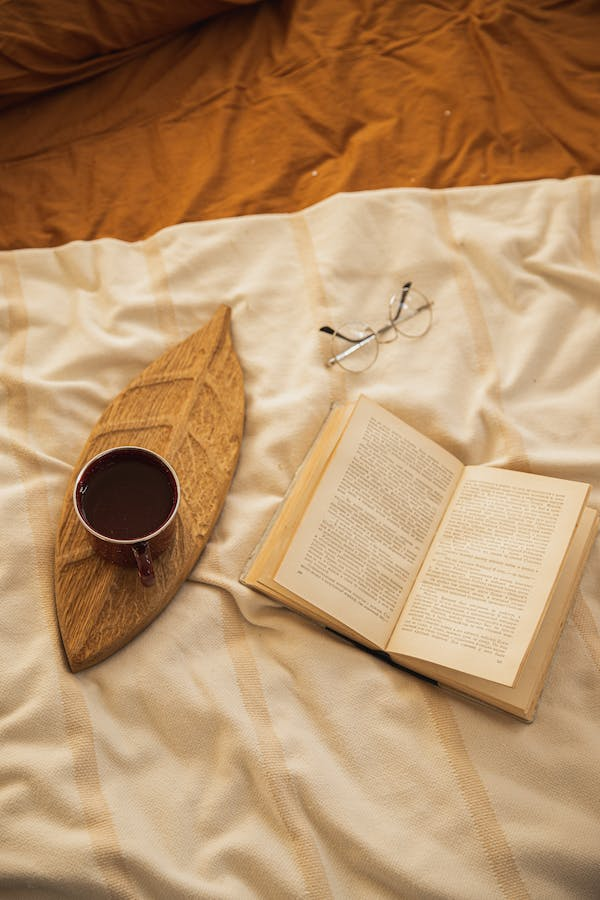book: (236, 400, 600, 727)
